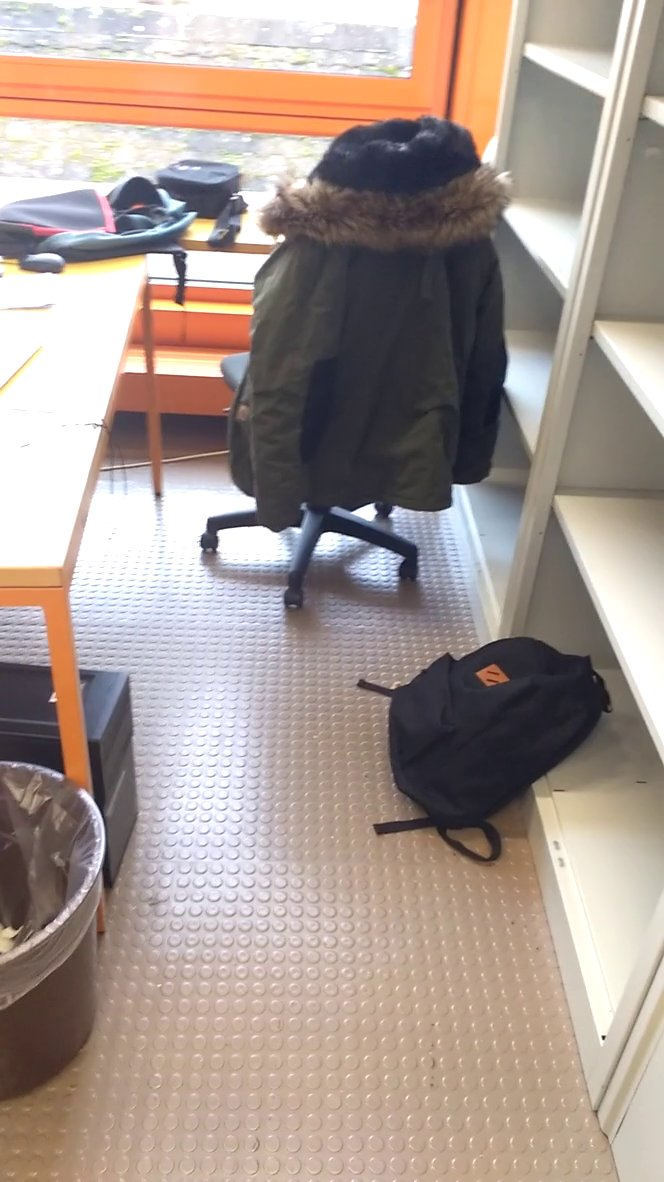bag: (353, 628, 620, 870)
